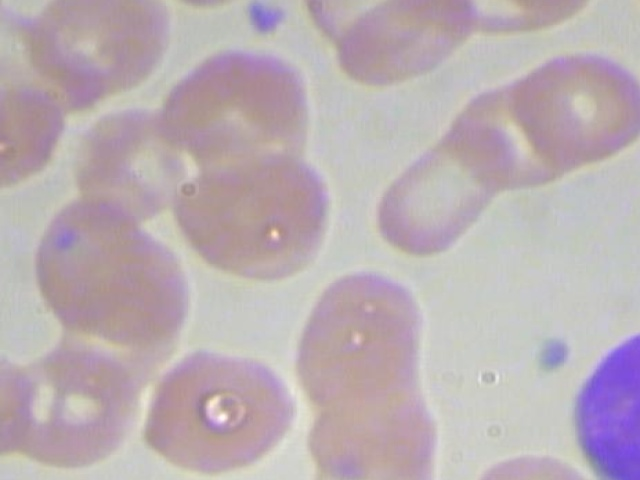Platelets: (525, 334, 580, 380), (240, 0, 288, 47)
RBC: (365, 117, 524, 273), (157, 154, 334, 291), (130, 341, 300, 477), (1, 339, 148, 476), (156, 47, 314, 171), (445, 70, 591, 195), (511, 44, 640, 169), (28, 0, 175, 101), (293, 299, 425, 411), (301, 375, 441, 480), (332, 0, 483, 89), (301, 434, 441, 480), (0, 338, 45, 463), (464, 449, 605, 480)
WBC: (565, 305, 640, 480)
